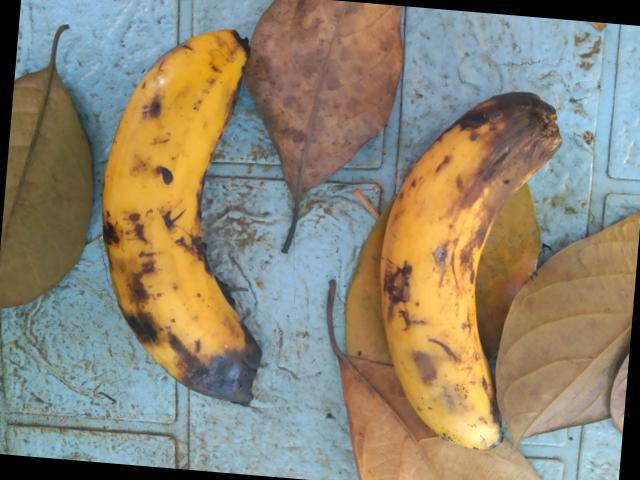overripe: (91, 14, 302, 412), (372, 82, 571, 460)
